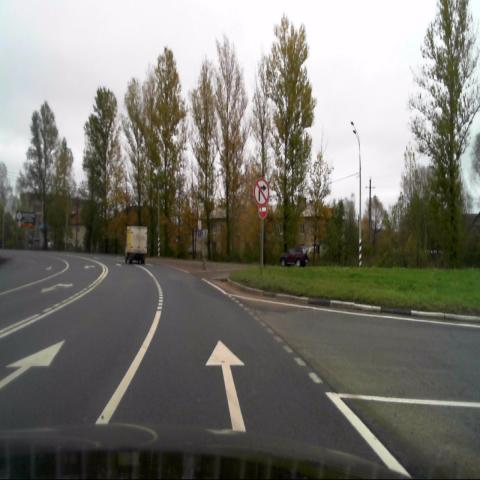3_18: (254, 179, 269, 205)
